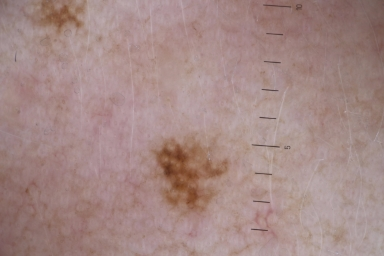nevus: (159, 136, 231, 217), (30, 1, 89, 37)
